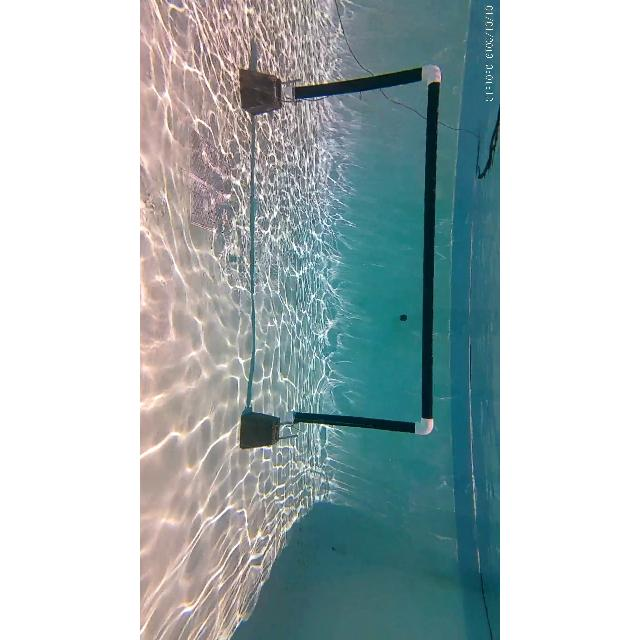prequal gate: (284, 64, 442, 436)
prequal gate leg l: (234, 62, 452, 116)
prequal gate leg r: (236, 402, 444, 450)
